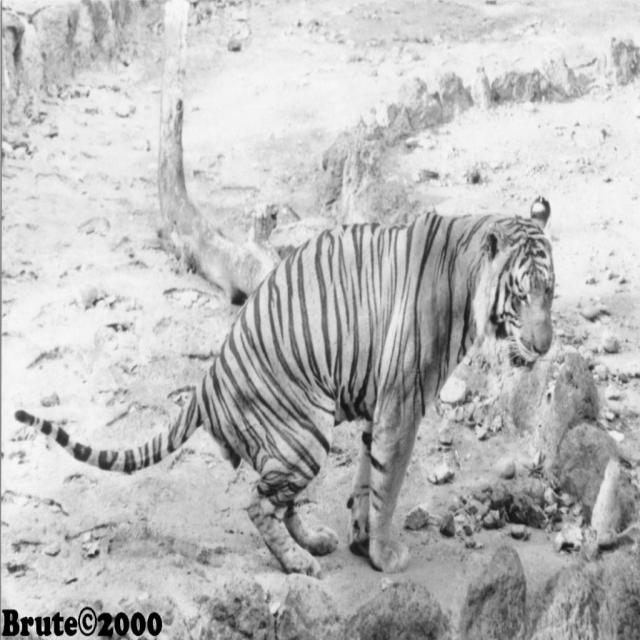Tiger: (14, 194, 554, 580)
